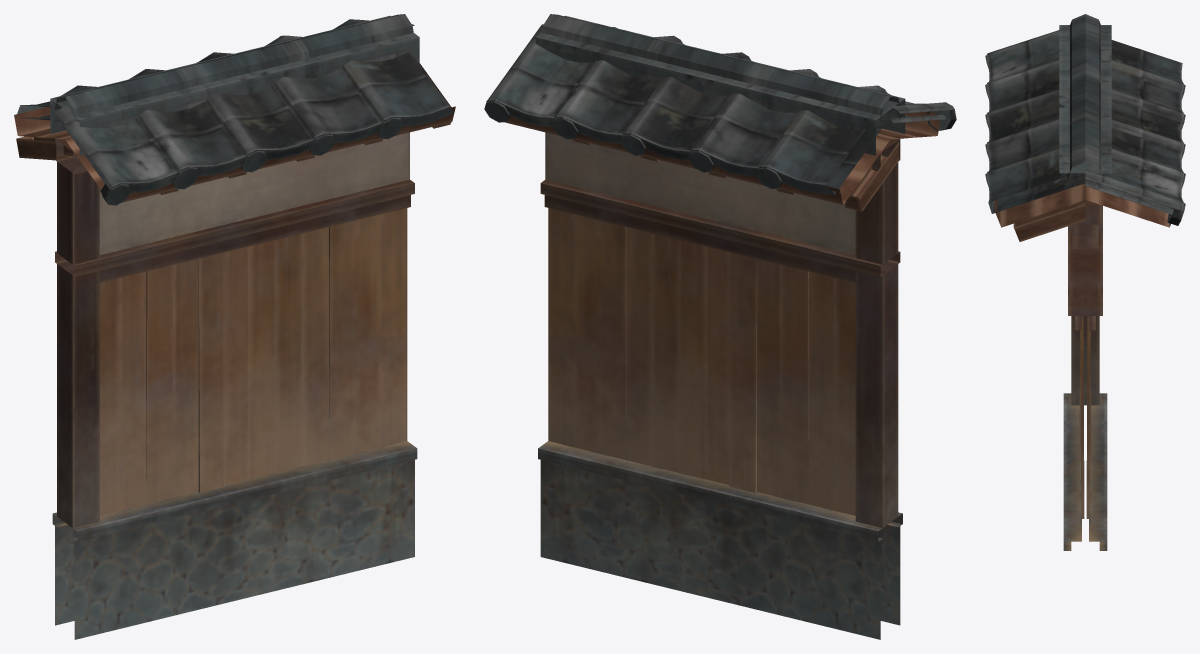
Rendered from Wall_08b.fbx.
The picture shows the model from 3 angles, left to right: view 1: azimuth 30°, elevation 25°; view 2: azimuth 150°, elevation 25°; view 3: azimuth 270°, elevation 25°; orthographic projection. The views are drawn at different scales.
Visible parts, largest first — view 1: SM_cmn_build_Wall_08b.mo; view 2: SM_cmn_build_Wall_08b.mo; view 3: SM_cmn_build_Wall_08b.mo.
Boxes of the visible parts, x1,y1,x2,y2 form: SM_cmn_build_Wall_08b.mo: [14, 14, 455, 639]; SM_cmn_build_Wall_08b.mo: [484, 14, 956, 639]; SM_cmn_build_Wall_08b.mo: [985, 14, 1185, 550].
Bounding box in the file's own units: 214 × 301 × 115.
Materials: 2 (2 with a texture image).
